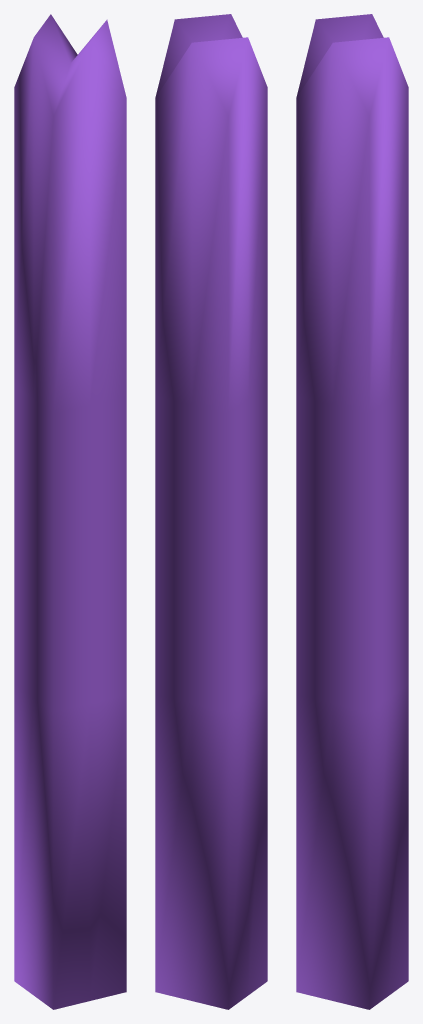
File: Base_letrero.fbx
3 renders of one model, left to right at view 1: azimuth 30°, elevation 25°; view 2: azimuth 150°, elevation 25°; view 3: azimuth 330°, elevation 25°, orthographic.
Parts seen in each view (by area): view 1: Box001; view 2: Box001; view 3: Box001.
Boxes of the visible parts, left/top/right/bottom form: Box001: left=14, top=14, right=126, bottom=1009; Box001: left=155, top=14, right=267, bottom=1009; Box001: left=296, top=14, right=408, bottom=1009.
Bounding box in the file's own units: 75.89 × 948 × 70.31.
